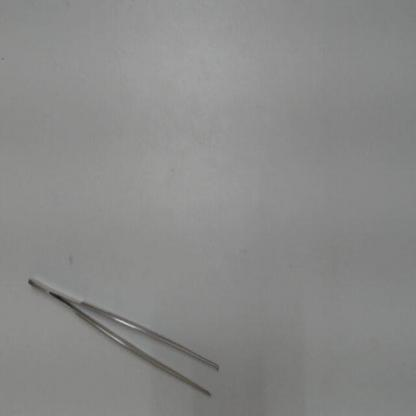Gillies Toothed Dissector: (21, 273, 227, 407)
